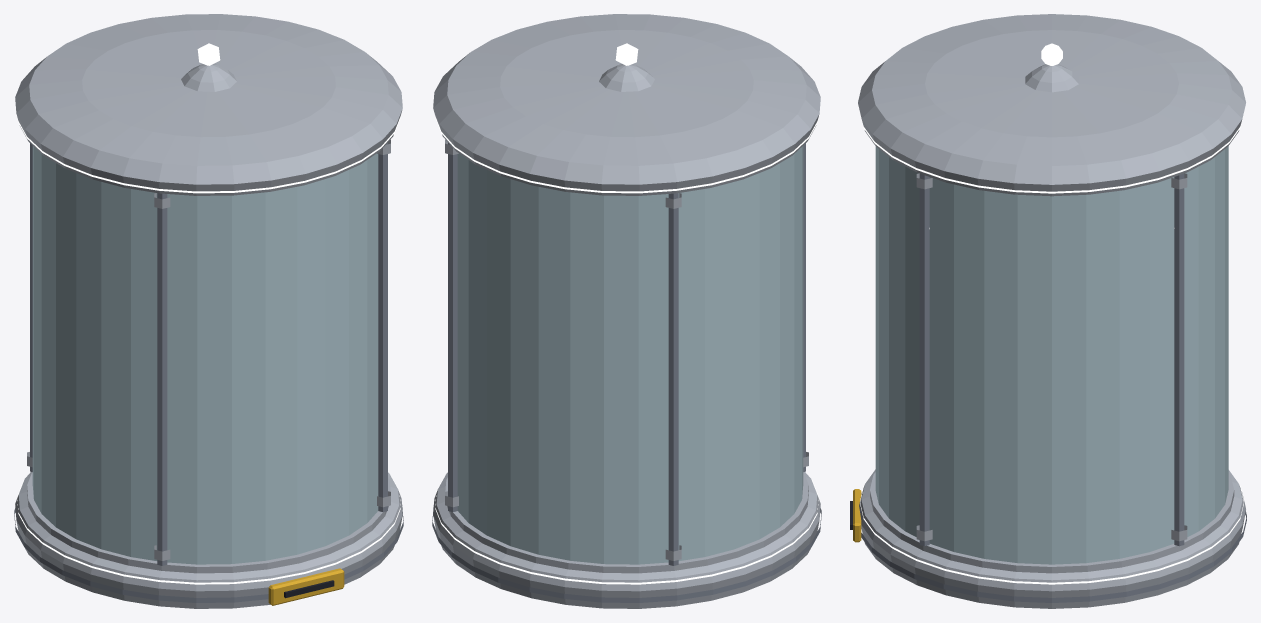
Rendered from glass-case.glb.
The picture shows the model from 3 angles, left to right: view 1: azimuth 30°, elevation 25°; view 2: azimuth 150°, elevation 25°; view 3: azimuth 270°, elevation 25°; orthographic projection.
Visible parts, largest first — view 1: Glass, Case; view 2: Glass, Case; view 3: Glass, Case.
Boxes of the visible parts, bbox=[...] form: Glass: bbox=[32, 146, 378, 564]; Case: bbox=[14, 14, 403, 608]; Glass: bbox=[457, 146, 803, 564]; Case: bbox=[432, 14, 821, 608]; Glass: bbox=[875, 146, 1228, 564]; Case: bbox=[850, 14, 1246, 608].
Bounding box in the file's own units: 0.552 × 0.758 × 0.562.
